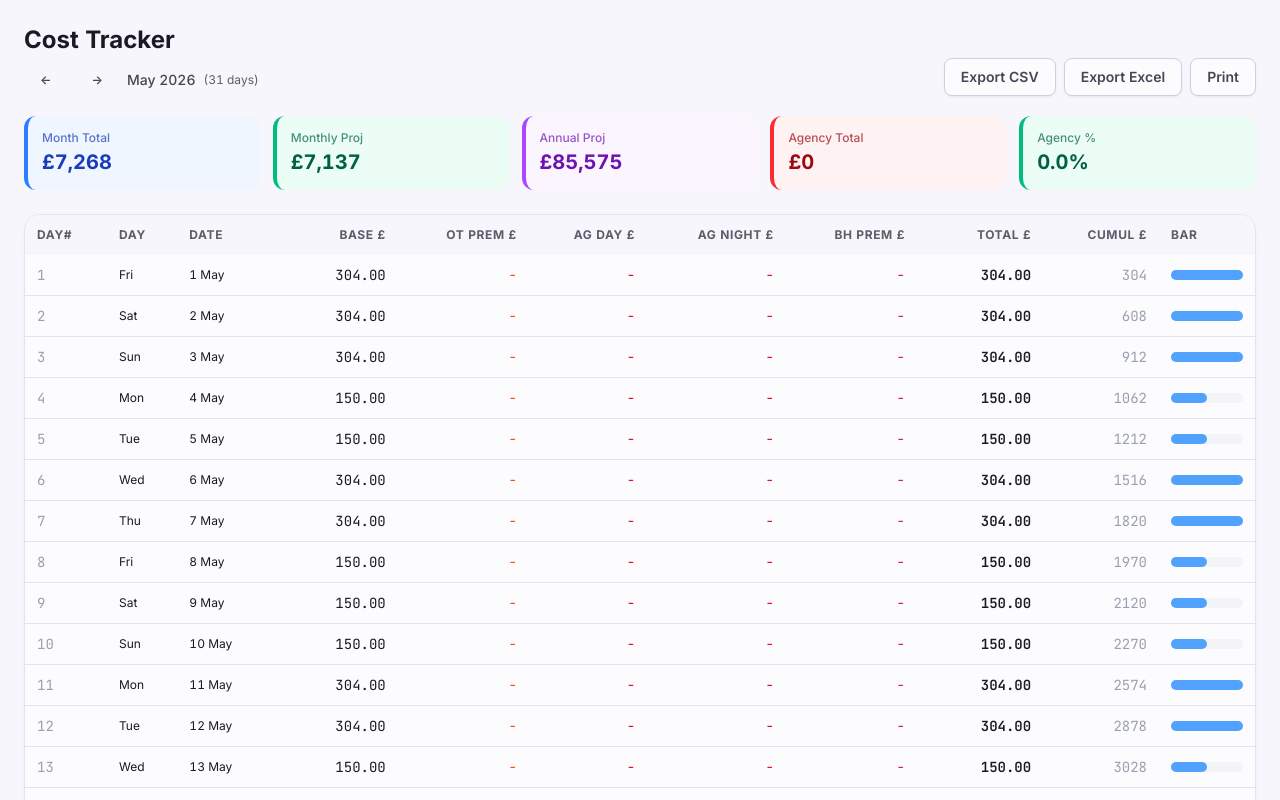
Test: CostTracker › month navigation arrows are present and change displayed month
Expected: the heading "Cost Tracker" is shown, [24,25,175,54]
Expected: the button named "Previous month" is shown, [24,64,68,96]
Note: Navigate forward one month
Click the button "→" at [97, 80], box [76,64,119,96]
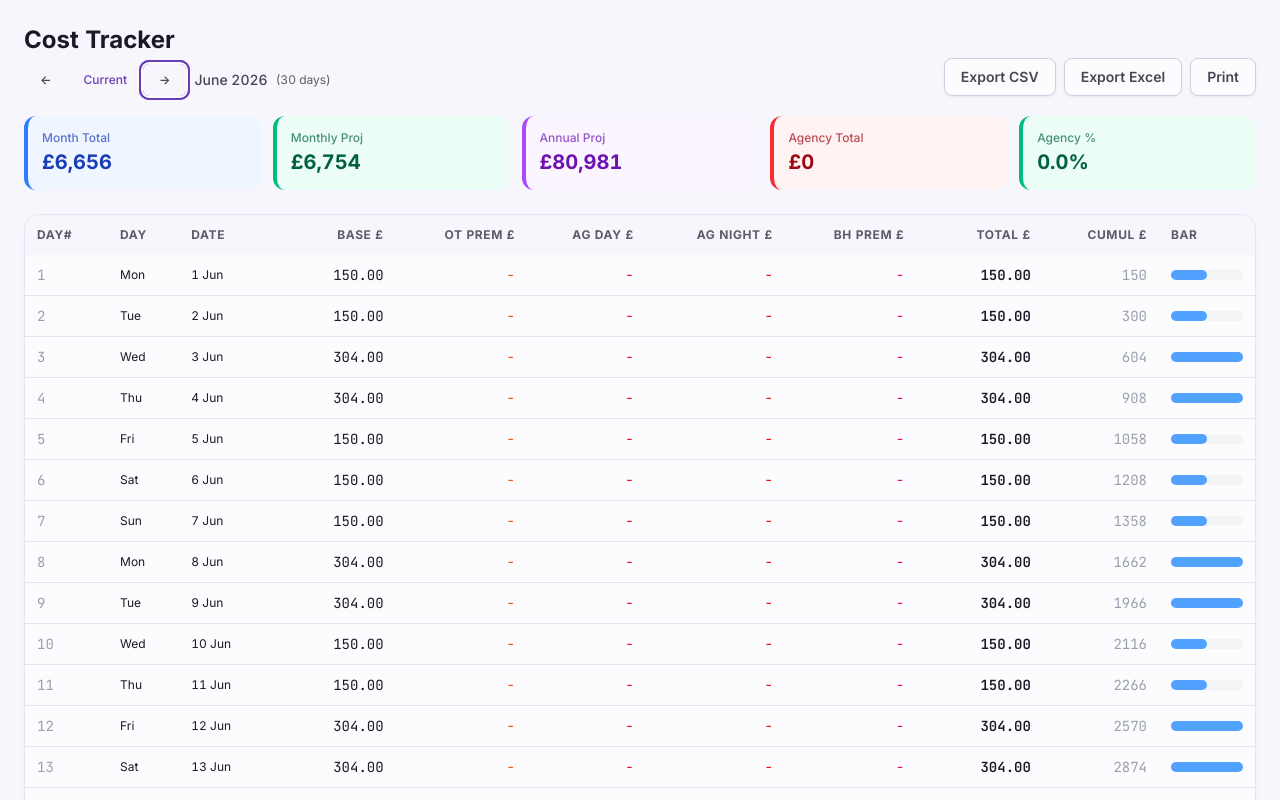
Result: the button "Current" is shown at [76,68,135,92]
